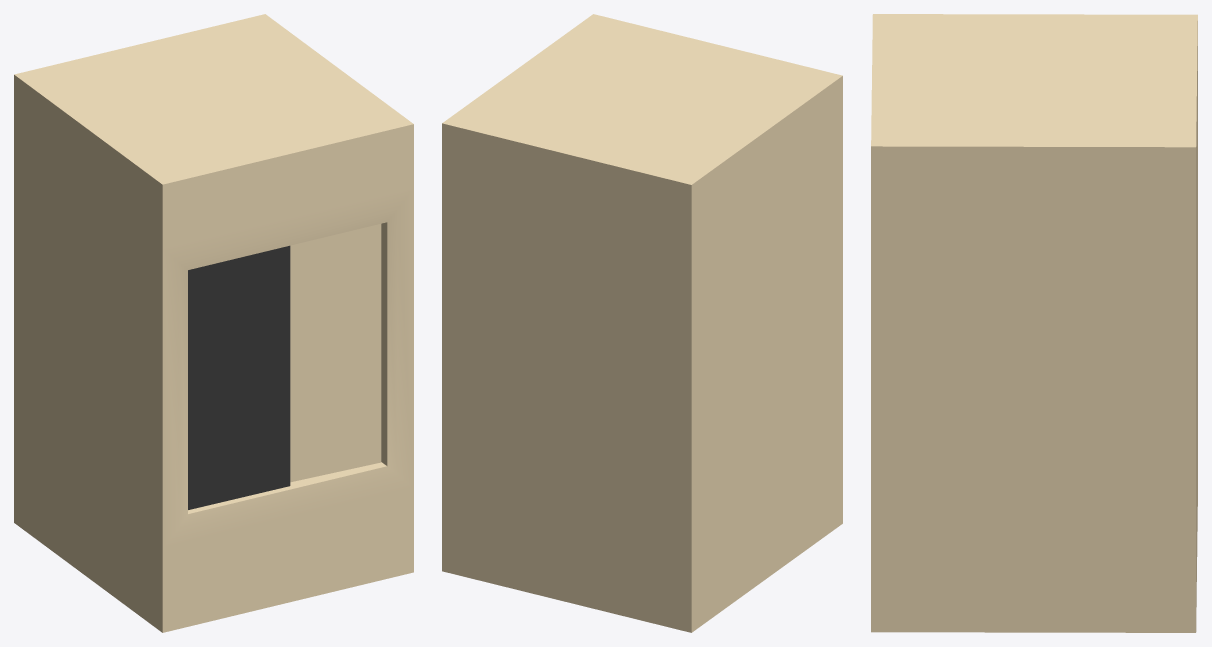
File: Freezer.fbx
3 renders of one model, left to right at view 1: azimuth 30°, elevation 25°; view 2: azimuth 150°, elevation 25°; view 3: azimuth 270°, elevation 25°, orthographic. The views are drawn at different scales.
Parts seen in each view (by area): view 1: freezer, freezer_gate; view 2: freezer; view 3: freezer.
Part boxes in pixels (<box>): freezer: <box>14,14,413,632</box>; freezer_gate: <box>188,245,290,509</box>; freezer: <box>442,14,842,632</box>; freezer: <box>871,14,1197,632</box>.
Bounding box in the file's own units: 23.8 × 40.47 × 24.67.
